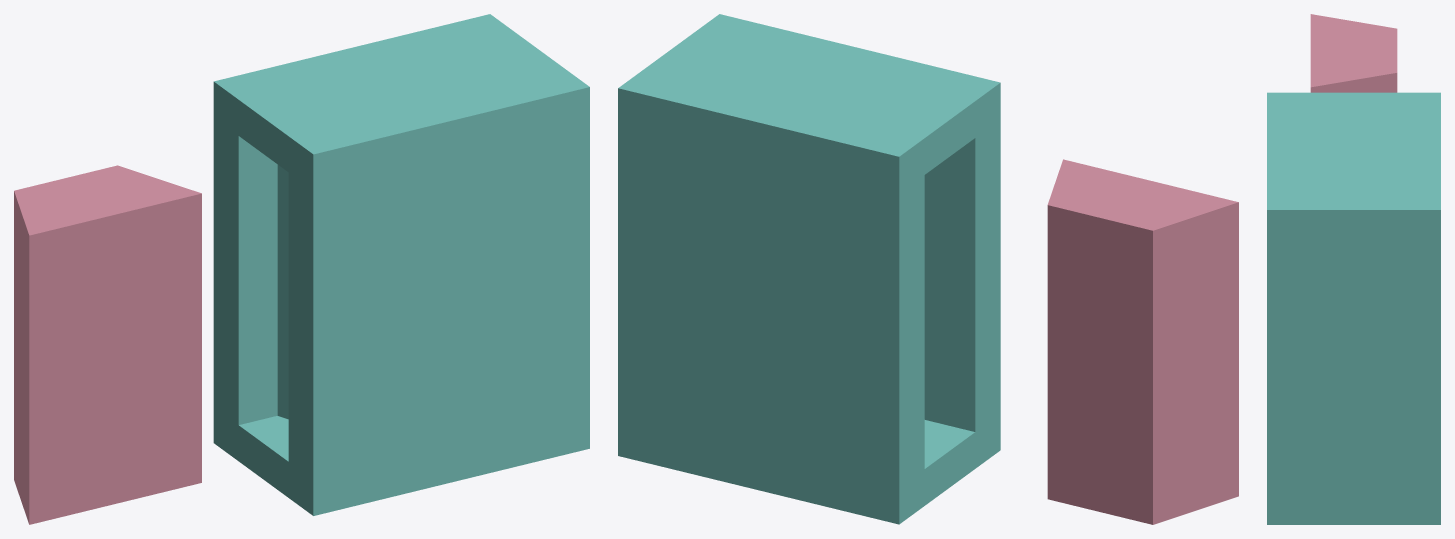
The model's file is ydovetail_demo.glb.
3 views of the same model, side by side, from view 1: azimuth 30°, elevation 25°; view 2: azimuth 150°, elevation 25°; view 3: azimuth 270°, elevation 25° (orthographic). The views are drawn at different scales.
Parts seen in each view (by area): view 1: dovetail_receiver, dovetail_tongue; view 2: dovetail_receiver, dovetail_tongue; view 3: dovetail_receiver, dovetail_tongue.
Boxes of the visible parts, x1,y1,x2,y2 form: dovetail_receiver: (213, 14, 589, 515); dovetail_tongue: (14, 165, 201, 524); dovetail_receiver: (618, 14, 1000, 524); dovetail_tongue: (1047, 159, 1238, 524); dovetail_receiver: (1267, 92, 1440, 524); dovetail_tongue: (1310, 14, 1397, 92).
Size of the model in its own units: 31 by 20 by 10.
